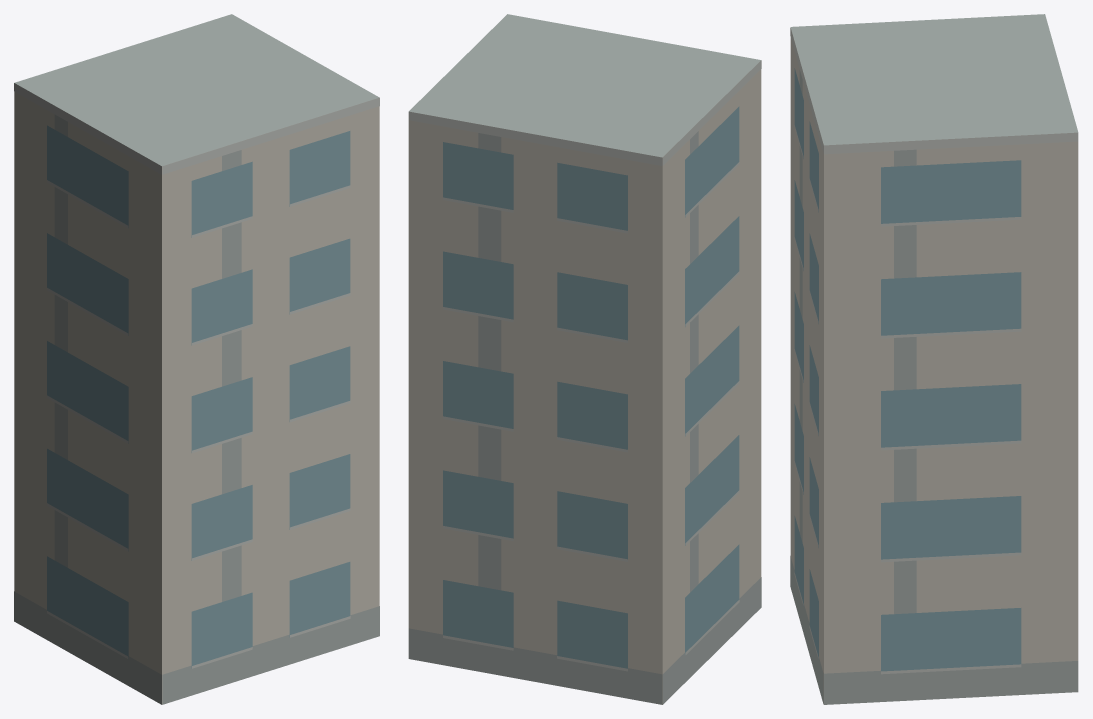
The model's file is residential-1a3fe071-da67-42ea-9e90-45d1d5d967d4.glb.
3 views of the same model, side by side, from view 1: azimuth 30°, elevation 25°; view 2: azimuth 150°, elevation 25°; view 3: azimuth 270°, elevation 25° (orthographic). The views are drawn at different scales.
Visible parts, largest first — view 1: residential-1a3fe071-da67-42ea-9e90-45d1d5d967d4.tmp; view 2: residential-1a3fe071-da67-42ea-9e90-45d1d5d967d4.tmp; view 3: residential-1a3fe071-da67-42ea-9e90-45d1d5d967d4.tmp.
Part boxes in pixels (x1,y1,x2,y2): residential-1a3fe071-da67-42ea-9e90-45d1d5d967d4.tmp: (14, 14, 379, 704); residential-1a3fe071-da67-42ea-9e90-45d1d5d967d4.tmp: (408, 14, 761, 704); residential-1a3fe071-da67-42ea-9e90-45d1d5d967d4.tmp: (790, 14, 1078, 704).
Size of the model in its own units: 7.69 by 15.25 by 7.13.
